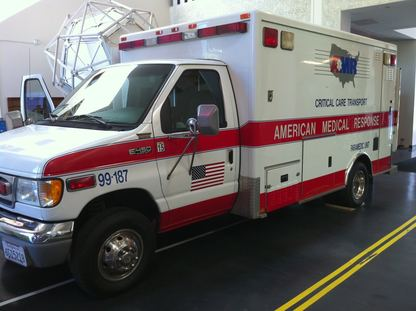ambulance: (0, 8, 401, 298)
